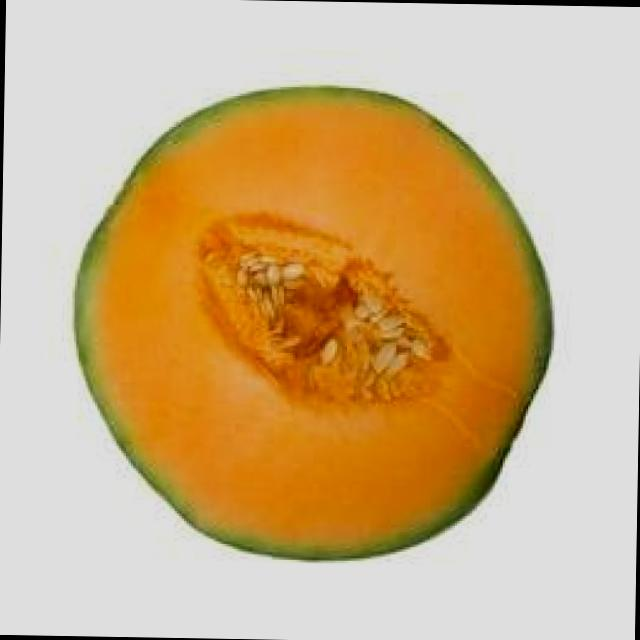cantaloupe: (67, 80, 556, 563)
